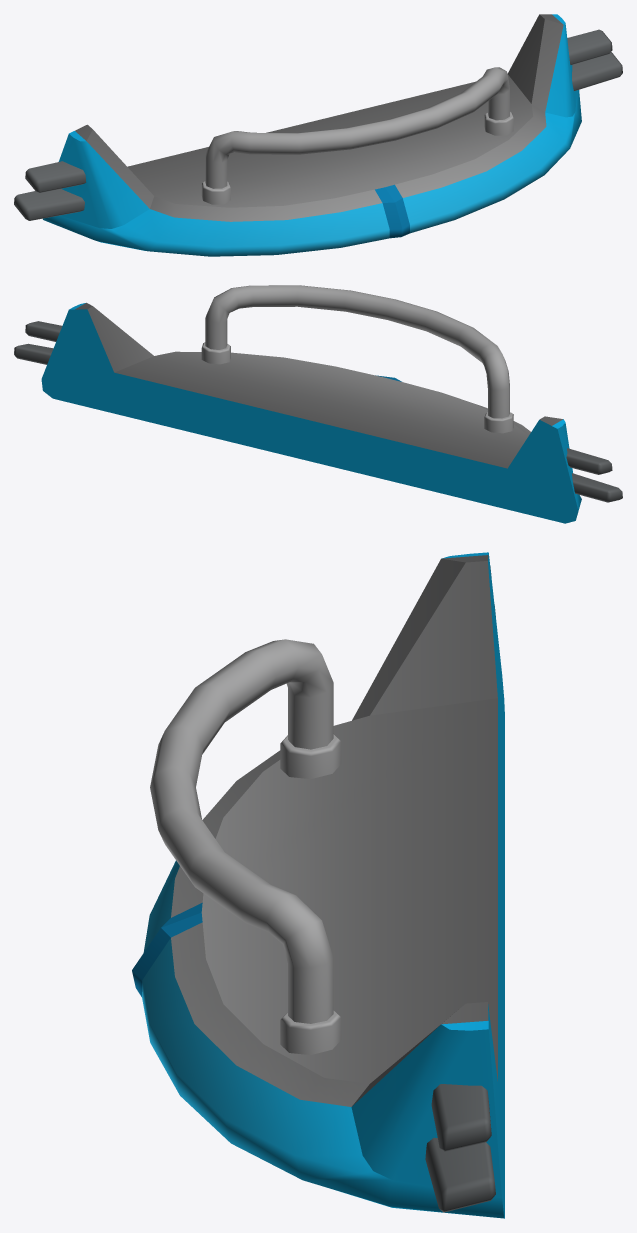
Rendered from Car_08_FrontBumper_Cool.fbx.
3 views of the same model, one above another, from view 1: azimuth 30°, elevation 25°; view 2: azimuth 150°, elevation 25°; view 3: azimuth 270°, elevation 25° (orthographic). The views are drawn at different scales.
Visible parts, largest first — view 1: Car_08_FrontBumper_Cool; view 2: Car_08_FrontBumper_Cool; view 3: Car_08_FrontBumper_Cool.
Part boxes in pixels (x1,y1,x2,y2): Car_08_FrontBumper_Cool: [14, 14, 622, 256]; Car_08_FrontBumper_Cool: [14, 285, 622, 523]; Car_08_FrontBumper_Cool: [132, 552, 504, 1218].
Size of the model in its own units: 234 by 63.35 by 42.69.
